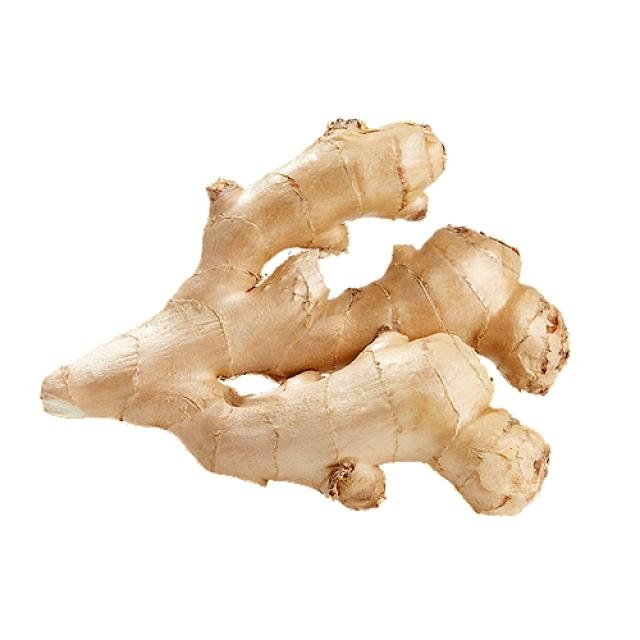ginger-root: (28, 104, 590, 525)
